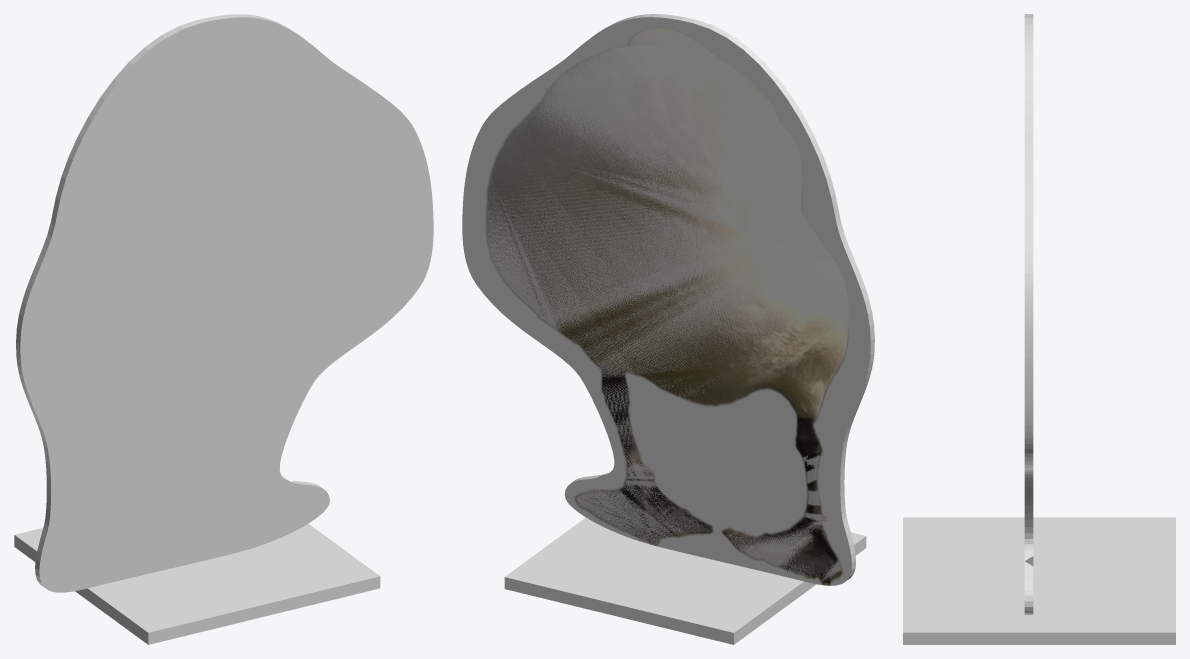
Rendered from acrylic_stand.glb.
3 views of the same model, side by side, from view 1: azimuth 30°, elevation 25°; view 2: azimuth 150°, elevation 25°; view 3: azimuth 270°, elevation 25° (orthographic). The views are drawn at different scales.
Parts seen in each view (by area): view 1: ドイツのトリボード, Cube; view 2: ドイツのトリ, ドイツのトリボード, Cube; view 3: Cube, ドイツのトリボード.
Boxes of the visible parts, <box> form: ドイツのトリボード: <box>16,14,433,592</box>; Cube: <box>14,523,380,644</box>; ドイツのトリ: <box>485,27,849,585</box>; ドイツのトリボード: <box>462,14,874,585</box>; Cube: <box>504,517,866,644</box>; Cube: <box>903,517,1175,644</box>; ドイツのトリボード: <box>1024,14,1033,614</box>.
Size of the model in its own units: 0.2246 by 0.2859 by 0.1261.
2 materials, 1 textured.
